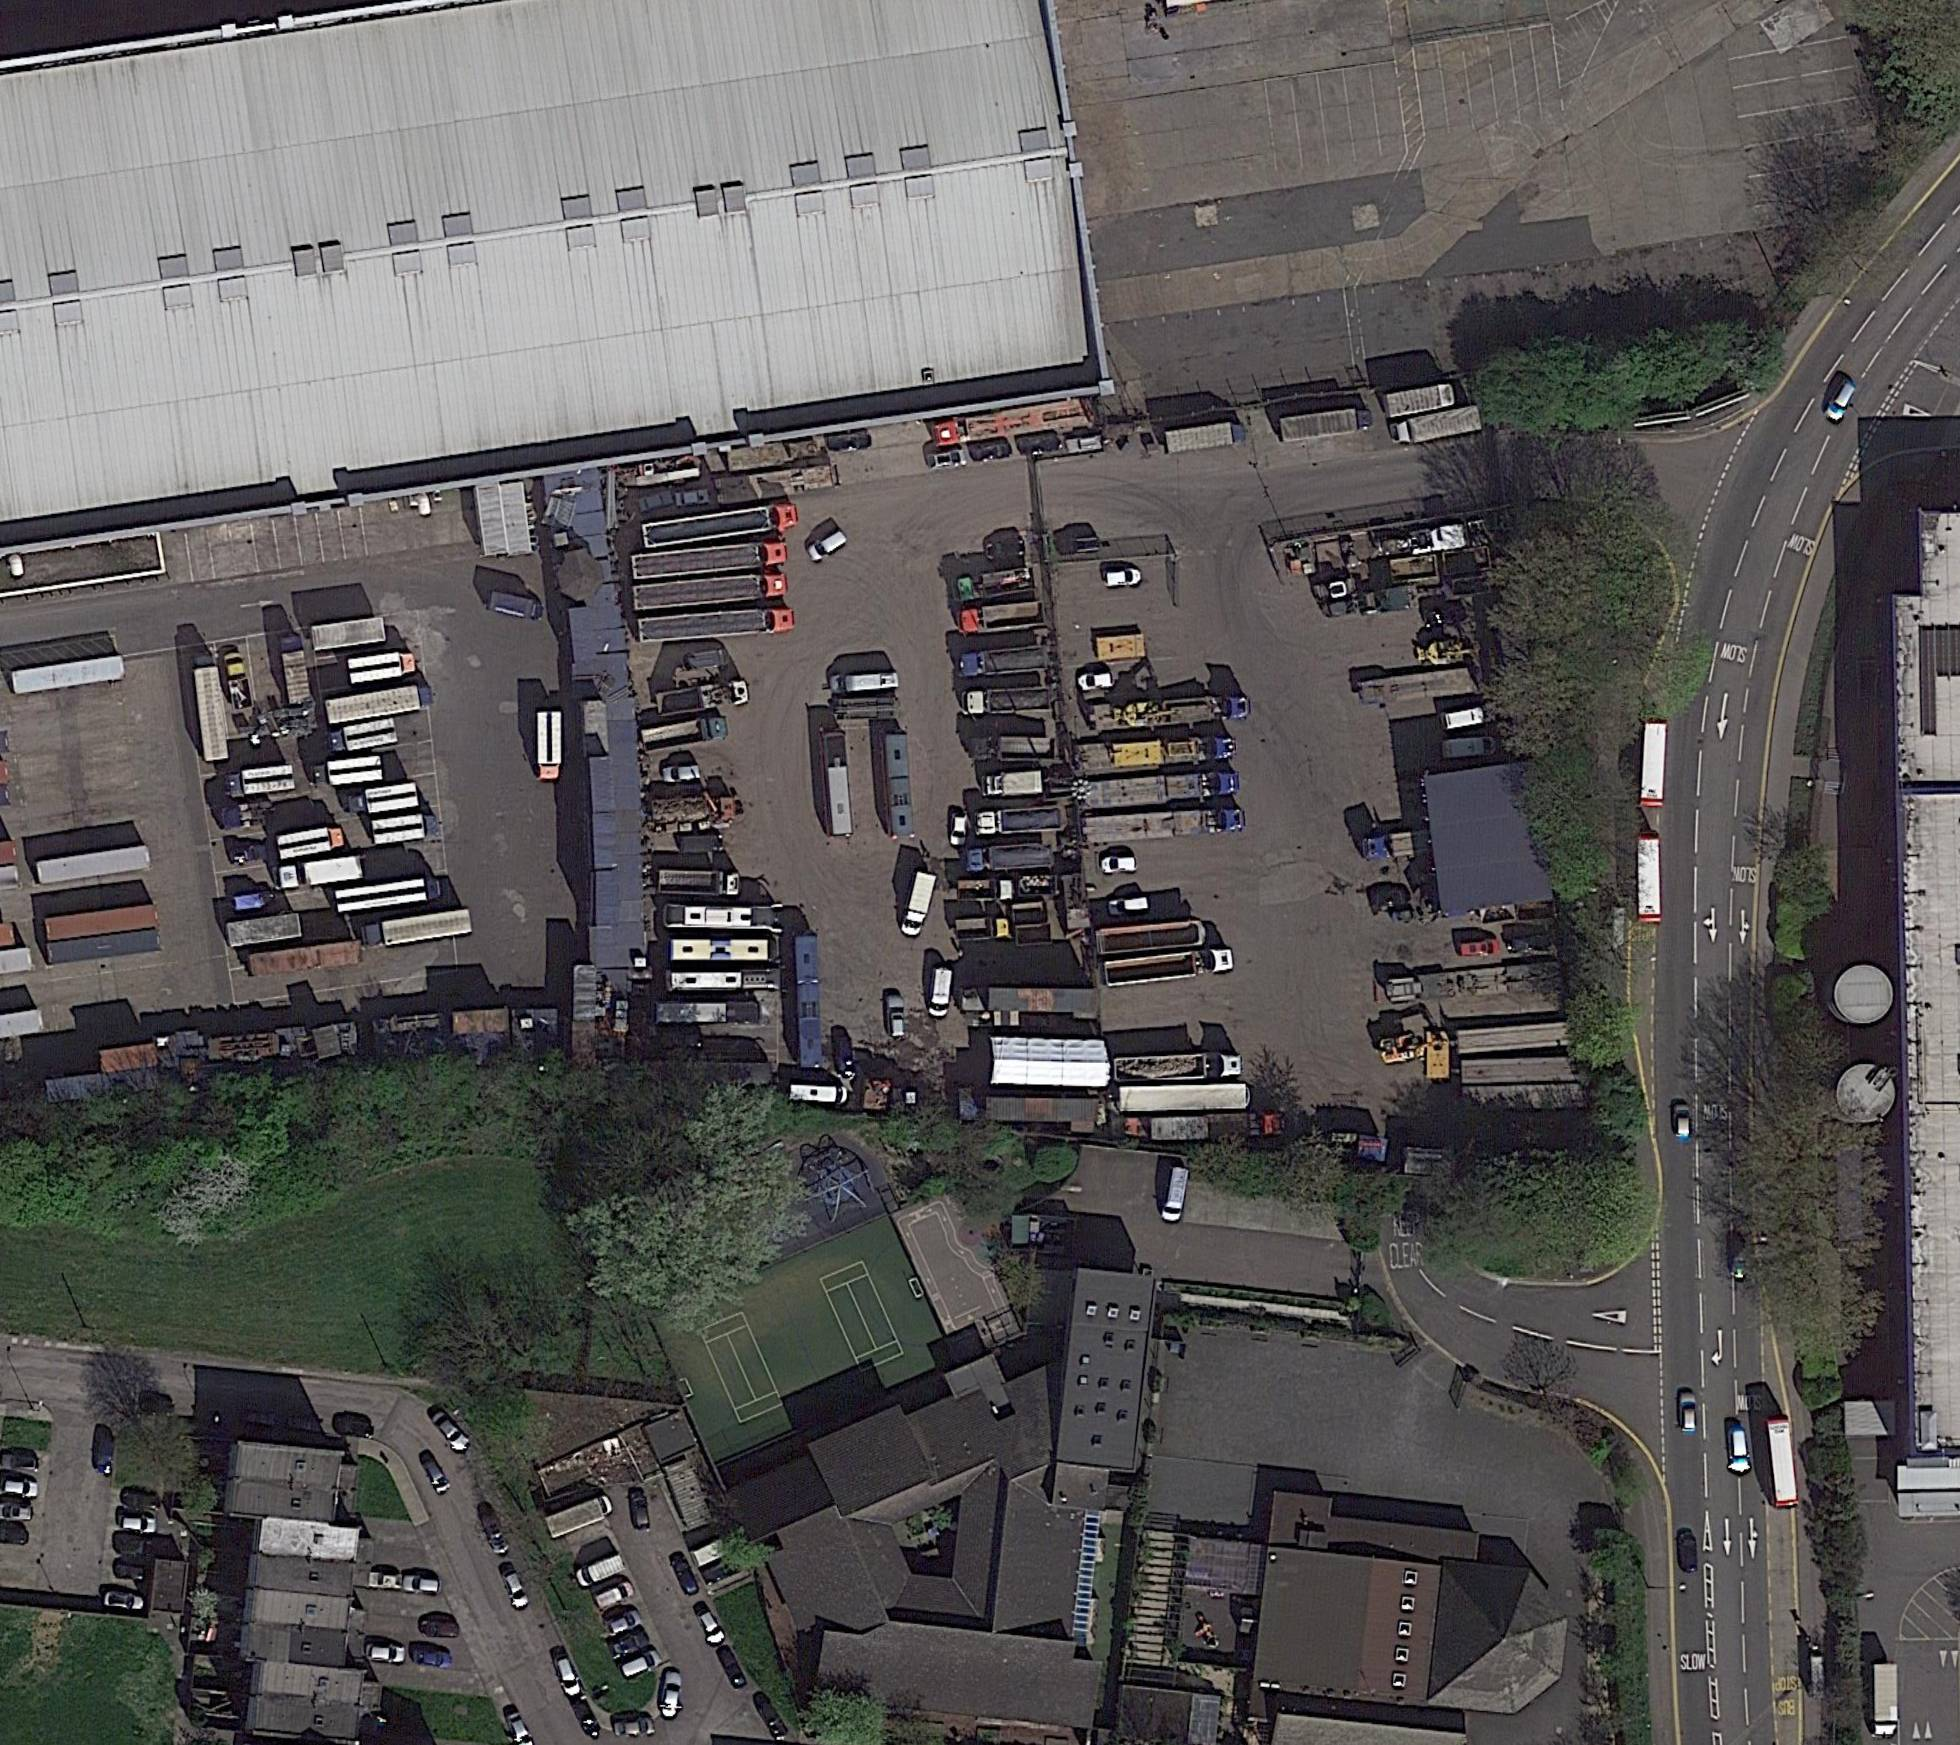large vehicle: (928, 396, 1098, 450), (1382, 958, 1568, 1006), (642, 500, 802, 551), (1074, 768, 1241, 812), (1084, 692, 1251, 734), (630, 539, 790, 583), (1079, 805, 1248, 846), (1073, 733, 1238, 773), (636, 606, 798, 645), (631, 573, 788, 611), (1105, 943, 1234, 987), (359, 906, 473, 952), (323, 682, 434, 726), (1150, 1108, 1286, 1144), (192, 650, 232, 765), (335, 874, 445, 916), (1389, 403, 1483, 448), (1111, 1053, 1244, 1085), (793, 931, 823, 1070), (879, 731, 918, 839), (652, 677, 753, 718), (956, 638, 1052, 680), (636, 714, 731, 756), (662, 901, 785, 933), (1278, 404, 1372, 445), (820, 728, 854, 840), (955, 598, 1047, 638), (274, 852, 367, 893), (1765, 1415, 1802, 1513), (542, 1492, 616, 1541), (663, 965, 785, 994), (1382, 381, 1468, 421), (1160, 419, 1249, 458), (955, 566, 1039, 606), (1359, 824, 1441, 864), (652, 999, 763, 1027), (897, 867, 940, 942), (961, 684, 1052, 718), (967, 840, 1056, 874), (668, 937, 780, 963), (345, 778, 421, 817), (973, 807, 1064, 839), (1638, 718, 1670, 808), (221, 761, 298, 798), (310, 751, 386, 788), (653, 866, 741, 898), (345, 648, 419, 686), (327, 714, 397, 753), (276, 632, 312, 706), (278, 824, 345, 862), (967, 734, 1059, 761), (370, 810, 439, 846), (1637, 832, 1662, 925), (573, 1551, 630, 1590), (1872, 1661, 1899, 1742), (221, 648, 254, 712), (487, 588, 546, 623), (535, 707, 562, 783), (982, 768, 1046, 798), (827, 670, 901, 696), (219, 798, 280, 829), (1160, 1166, 1190, 1221), (953, 915, 1012, 942), (790, 1081, 849, 1107), (956, 878, 1015, 903), (928, 967, 955, 1019)
roundabout: (1822, 960, 1896, 1031), (1820, 1061, 1898, 1129)
small vehicle: (431, 1410, 471, 1454), (694, 1607, 731, 1649), (1827, 379, 1859, 424), (808, 527, 849, 563), (552, 1652, 583, 1698), (500, 1566, 530, 1610), (593, 1580, 635, 1610), (620, 1649, 662, 1679), (1726, 1427, 1751, 1476), (603, 1609, 642, 1637), (365, 1641, 407, 1666), (1677, 1529, 1699, 1572), (886, 995, 908, 1036), (1108, 896, 1152, 916), (1079, 670, 1116, 692), (402, 1575, 441, 1595), (1674, 1102, 1694, 1140), (1105, 568, 1142, 588), (1460, 938, 1499, 957), (948, 812, 968, 847), (1680, 1391, 1697, 1433), (120, 1514, 157, 1533), (1100, 857, 1138, 874)
tennis court: (699, 1310, 788, 1425), (818, 1258, 906, 1374)
